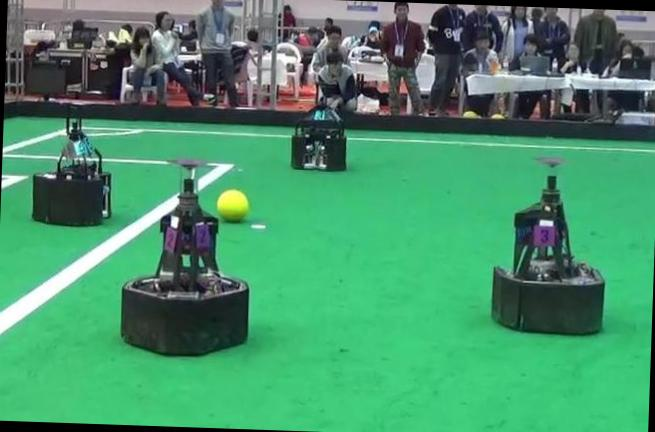ball: (216, 189, 249, 221)
robot: (120, 159, 248, 354), (492, 174, 604, 333), (32, 106, 111, 225), (291, 101, 346, 170)
